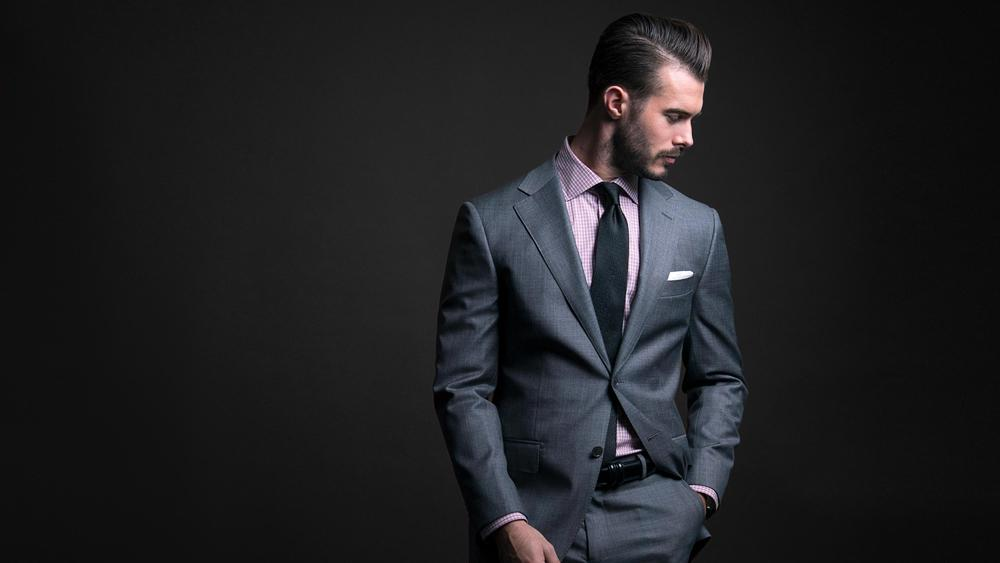F_M_suit jacket: (432, 169, 746, 520)
F_belt: (591, 452, 656, 485)
F_tie: (587, 186, 638, 450)
